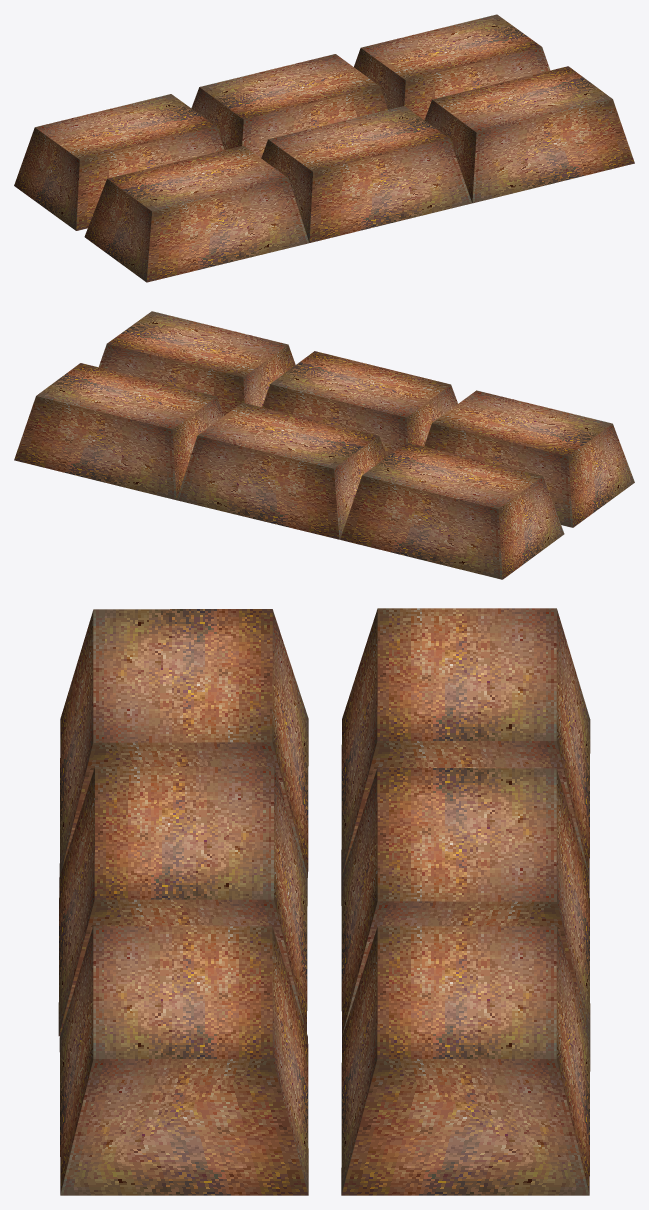
Rendered from iron_6.glb.
The picture shows the model from 3 angles, top to bottom: view 1: azimuth 30°, elevation 25°; view 2: azimuth 150°, elevation 25°; view 3: azimuth 270°, elevation 25°; orthographic projection. The views are drawn at different scales.
Parts seen in each view (by area): view 1: iron01.001; view 2: iron01.001; view 3: iron01.001.
Boxes of the visible parts, bbox=[...] form: iron01.001: bbox=[14, 14, 634, 282]; iron01.001: bbox=[14, 311, 634, 579]; iron01.001: bbox=[58, 608, 590, 1195].
Bounding box in the file's own units: 189 × 22.94 × 89.15.
Materials: 1 (1 with a texture image).
